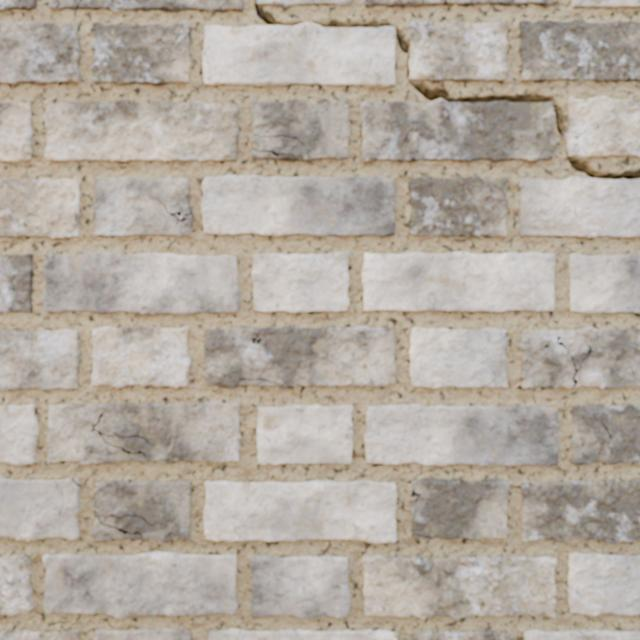crack: (202, 0, 639, 238), (43, 551, 237, 618), (363, 555, 556, 619), (44, 99, 239, 162), (47, 401, 241, 464), (204, 325, 397, 388), (43, 252, 239, 314), (364, 404, 559, 466), (201, 175, 395, 237), (204, 481, 396, 543), (362, 252, 555, 311), (520, 479, 639, 544), (519, 19, 639, 82), (519, 326, 639, 388), (91, 21, 190, 85), (251, 556, 350, 619), (250, 98, 349, 161), (91, 326, 190, 388), (92, 480, 191, 542), (91, 176, 193, 236), (408, 176, 508, 237), (411, 478, 508, 540), (410, 327, 507, 388), (252, 252, 348, 313), (257, 404, 353, 464), (0, 477, 80, 541), (0, 22, 81, 85), (0, 329, 80, 390), (0, 178, 81, 238), (567, 552, 639, 616), (568, 253, 639, 313), (571, 404, 639, 465), (48, 0, 243, 12), (0, 404, 38, 464), (0, 554, 34, 615), (209, 628, 397, 639), (0, 100, 32, 162), (0, 254, 32, 312), (364, 0, 558, 7), (94, 628, 190, 639), (524, 630, 639, 639), (412, 630, 509, 639), (0, 629, 79, 639), (572, 0, 639, 8), (0, 0, 36, 11)
